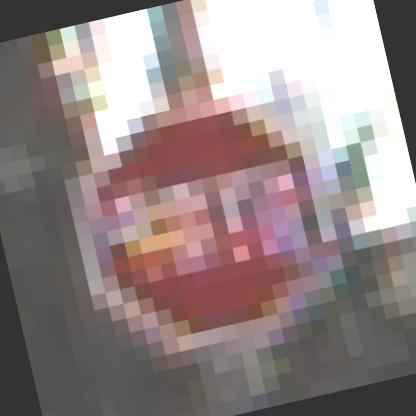stop: (53, 80, 365, 376)
